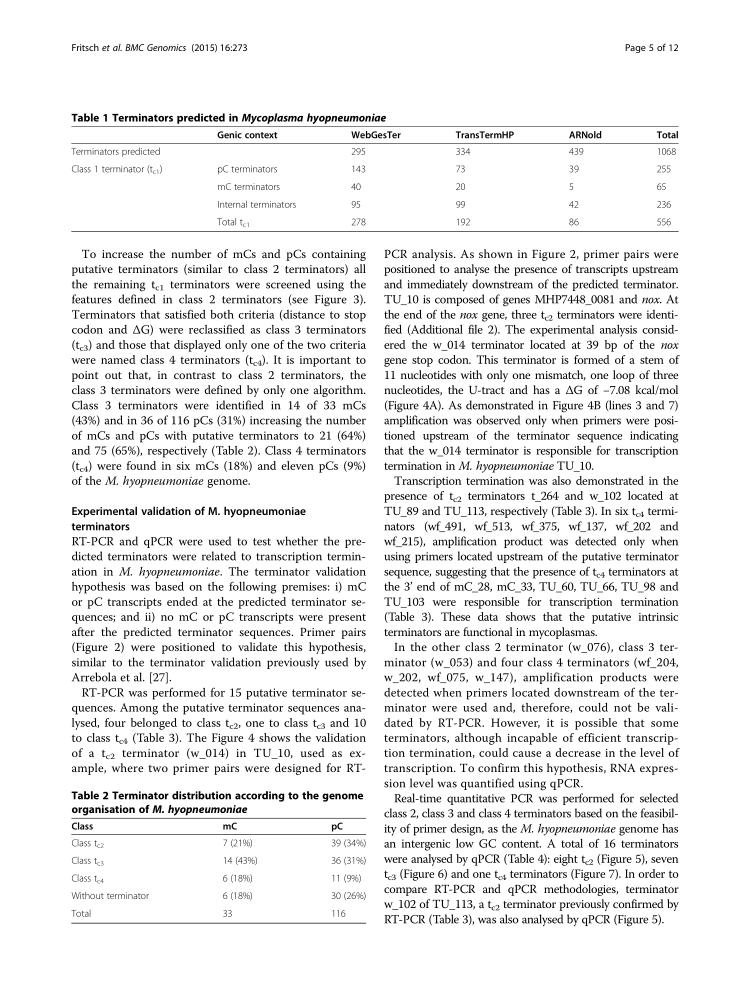table: (71, 129, 678, 228), (71, 820, 366, 919)
